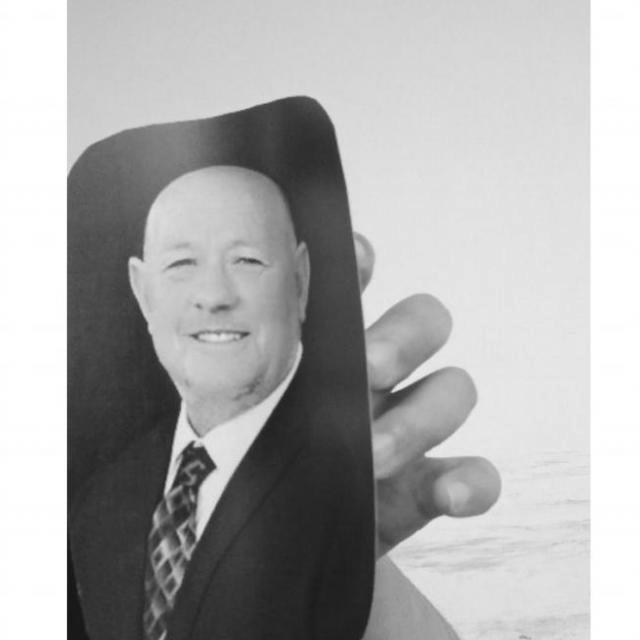fake: (69, 92, 396, 640)
